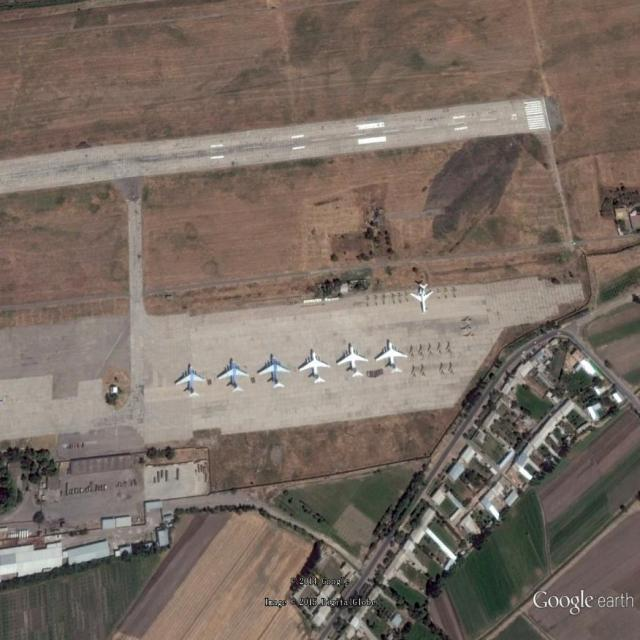aircraft: (214, 357, 253, 398), (335, 342, 374, 383), (254, 354, 295, 392), (374, 340, 413, 379), (297, 349, 334, 389), (175, 363, 208, 400), (407, 280, 436, 318)
